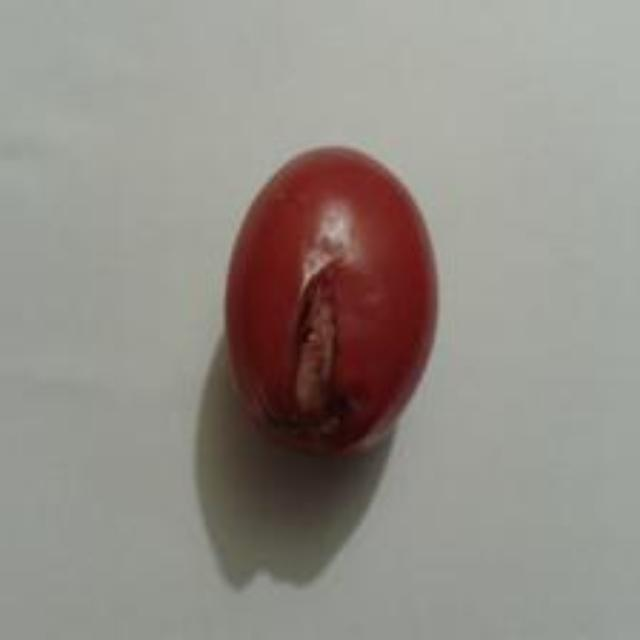defect: (204, 124, 453, 468)
